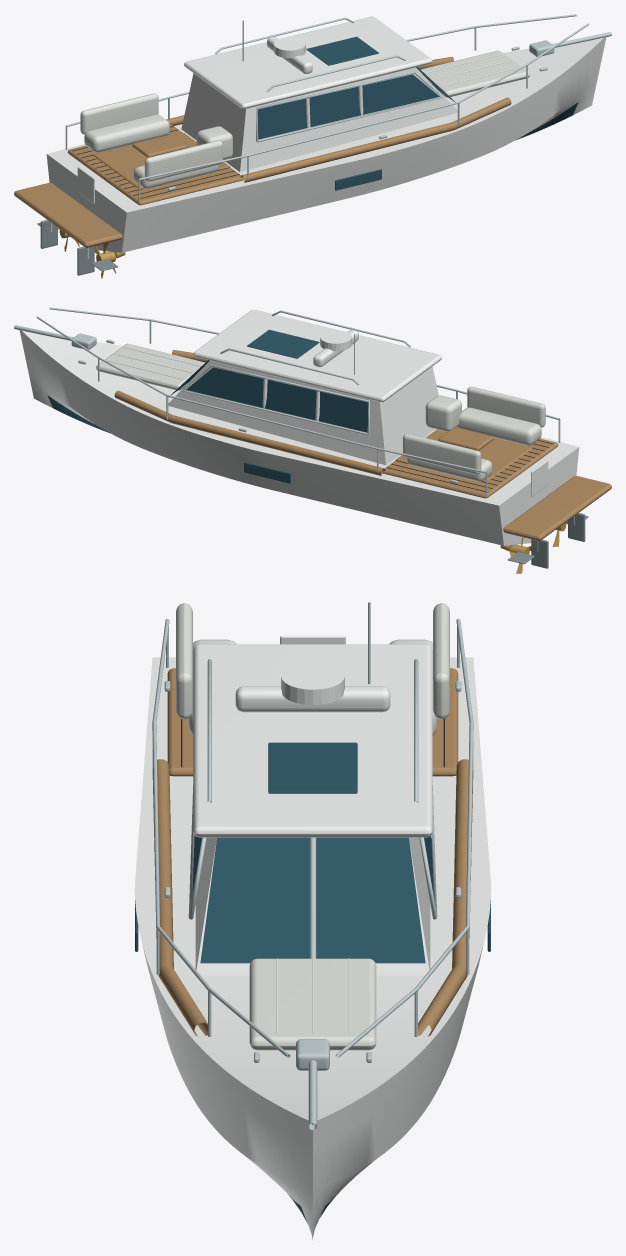
Rendered from planing_yacht.glb.
3 renders of one model, top to bottom at view 1: azimuth 30°, elevation 25°; view 2: azimuth 150°, elevation 25°; view 3: azimuth 270°, elevation 25°, orthographic. The views are drawn at different scales.
Visible parts, largest first — view 1: Yacht_Hull_Closed, Cabin_roof, Cabin_body, Side_windscreen_-1, Swim_platform, Foredeck sunpad, Deck_Cockpit, Side teak walkway, Cockpit bench 1, Cockpit backrest -1, Cockpit backrest 1, Deck_EngineCover (+15 smaller); view 2: Yacht_Hull_Closed, Cabin_roof, Cabin_body, Side_windscreen_1, Swim_platform, Foredeck sunpad, Deck_Cockpit, Side teak walkway.001, Cockpit bench -1, Cockpit backrest 1, Cockpit backrest -1, Deck_EngineCover (+15 smaller); view 3: Yacht_Hull_Closed, Cabin_roof, Raked_front_windscreen, Foredeck sunpad, Roof glass hatch, Cabin_body, Side teak walkway, Side teak walkway.001, Deck_Cockpit, Radar arch, Radar radome, Guardrail_1 (+5 smaller).
Boxes of the visible parts, x1,y1,x2,y2 form: Yacht_Hull_Closed: [46, 37, 606, 252]; Cabin_roof: [184, 16, 432, 109]; Cabin_body: [181, 67, 457, 172]; Side_windscreen_-1: [257, 74, 439, 139]; Swim_platform: [14, 182, 122, 247]; Foredeck sunpad: [420, 50, 529, 97]; Deck_Cockpit: [67, 125, 242, 205]; Side teak walkway: [240, 97, 511, 182]; Cockpit bench 1: [84, 114, 169, 152]; Cockpit backrest -1: [144, 140, 222, 181]; Cockpit backrest 1: [80, 93, 158, 134]; Deck_EngineCover: [93, 133, 229, 188]; Yacht_Hull_Closed: [19, 330, 579, 545]; Cabin_roof: [193, 309, 441, 402]; Cabin_body: [168, 360, 438, 465]; Side_windscreen_1: [186, 367, 368, 432]; Swim_platform: [503, 475, 611, 540]; Foredeck sunpad: [96, 343, 205, 390]; Deck_Cockpit: [383, 427, 558, 498]; Side teak walkway.001: [114, 390, 385, 475]; Cockpit bench -1: [457, 407, 541, 445]; Cockpit backrest 1: [403, 433, 481, 474]; Cockpit backrest -1: [467, 386, 545, 427]; Deck_EngineCover: [396, 429, 532, 481]; Yacht_Hull_Closed: [134, 657, 491, 1240]; Cabin_roof: [193, 644, 432, 837]; Raked_front_windscreen: [200, 837, 425, 963]; Foredeck sunpad: [249, 958, 376, 1050]; Roof glass hatch: [268, 742, 357, 793]; Cabin_body: [195, 837, 430, 975]; Side teak walkway: [152, 759, 207, 1036]; Side teak walkway.001: [418, 759, 473, 1036]; Deck_Cockpit: [167, 668, 458, 776]; Radar arch: [235, 686, 390, 712]; Radar radome: [281, 663, 344, 704]; Guardrail_1: [335, 618, 473, 1057].
Bounding box in the file's own units: 13.83 × 4.54 × 3.8.
